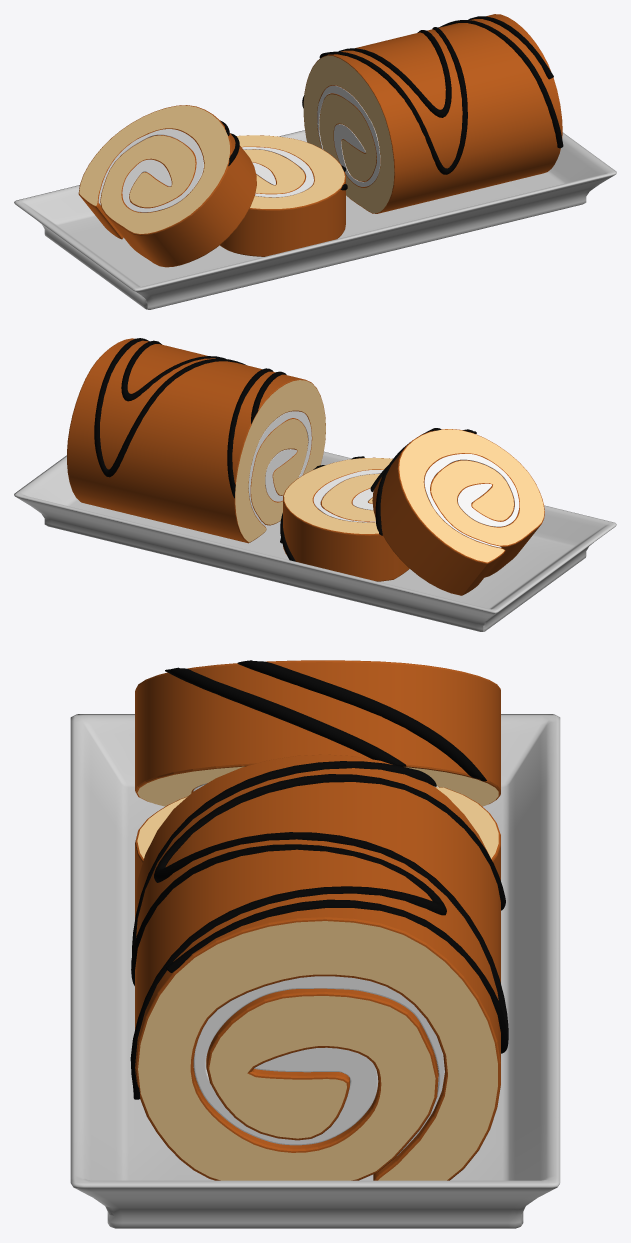
The model's file is cake.FBX.
The picture shows the model from 3 angles, top to bottom: view 1: azimuth 30°, elevation 25°; view 2: azimuth 150°, elevation 25°; view 3: azimuth 270°, elevation 25°; orthographic projection. The views are drawn at different scales.
Visible parts, largest first — view 1: Line001, Box001, Line007, Line004, Line006, Line008, Line002, Line003; view 2: Line001, Box001, Line007, Line004, Line006, Line008, Line002, Line003, Object002; view 3: Line001, Box001, Line007, Line006, Line002, Object002, Line004.
Part boxes in pixels (left/top/right/bottom): Line001: left=303, top=14, right=562, bottom=213; Box001: left=14, top=130, right=616, bottom=309; Line007: left=78, top=105, right=256, bottom=267; Line004: left=219, top=135, right=345, bottom=256; Line006: left=302, top=16, right=563, bottom=174; Line008: left=98, top=129, right=203, bottom=212; Line002: left=317, top=85, right=380, bottom=186; Line003: left=242, top=147, right=313, bottom=197; Line001: left=67, top=338, right=325, bottom=543; Box001: left=14, top=451, right=616, bottom=631; Line007: left=372, top=429, right=544, bottom=595; Line004: left=283, top=457, right=409, bottom=581; Line006: left=94, top=338, right=286, bottom=498; Line008: left=424, top=454, right=519, bottom=547; Line002: left=248, top=411, right=311, bottom=526; Line003: left=313, top=470, right=383, bottom=522; Object002: left=370, top=428, right=476, bottom=535; Line001: left=135, top=754, right=500, bottom=1180; Box001: left=70, top=714, right=560, bottom=1228; Line007: left=135, top=660, right=500, bottom=806; Line006: left=130, top=761, right=508, bottom=1099; Line002: left=193, top=976, right=444, bottom=1155; Object002: left=165, top=660, right=486, bottom=781; Line004: left=135, top=787, right=500, bottom=904.
Bounding box in the file's own units: 493 × 146 × 216.
